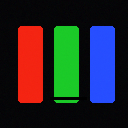3 line_h: (50, 97, 86, 99)
